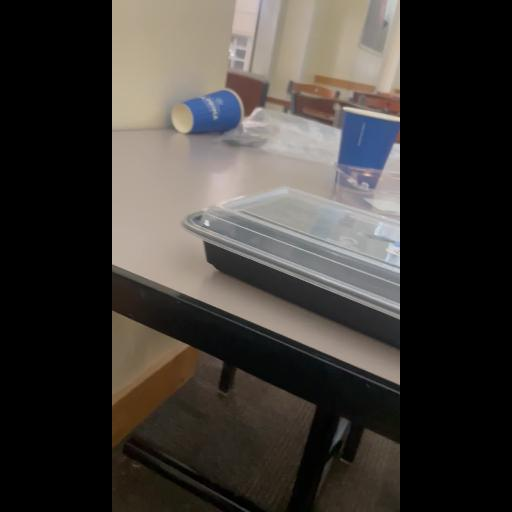rigid_plastic_container: (172, 176, 400, 356)
